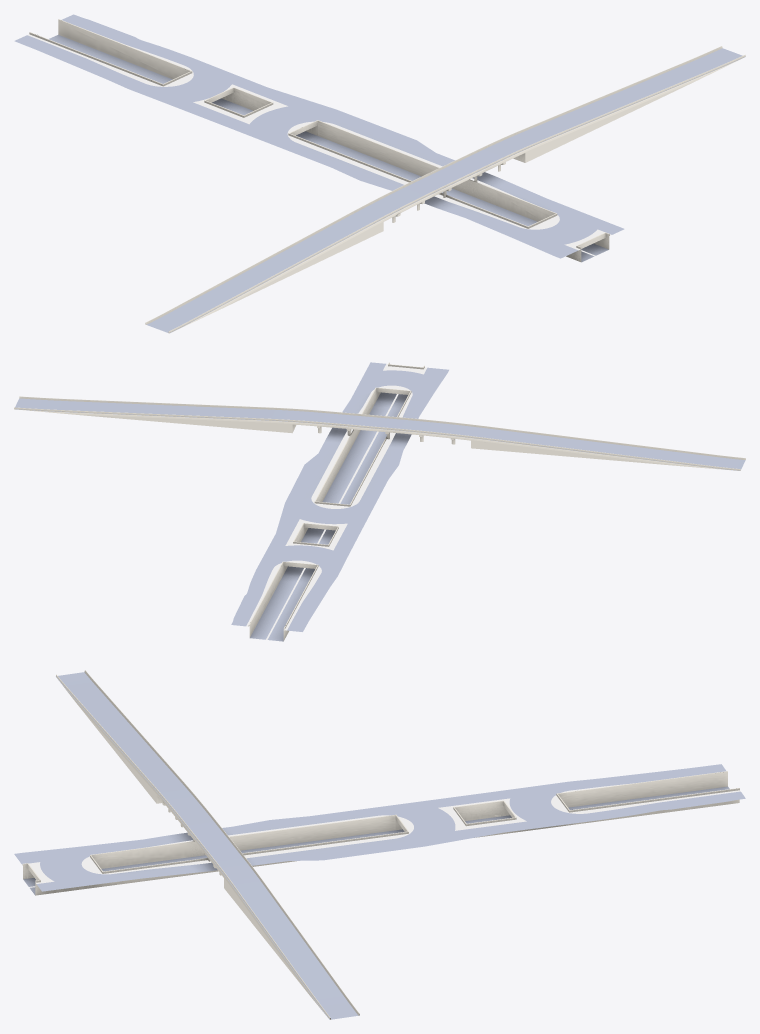
The model's file is Saina-Zhubanov2.glb.
3 renders of one model, top to bottom at view 1: azimuth 30°, elevation 25°; view 2: azimuth 150°, elevation 25°; view 3: azimuth 270°, elevation 25°, orthographic. The views are drawn at different scales.
Parts seen in each view (by area): view 1: group_3, group_11.001, group_2.003; view 2: group_3, group_11.001, group_2.003; view 3: group_3, group_11.001, group_2.003.
Part boxes in pixels (box(x1,y1,x2,y2)): group_3: box(14, 14, 745, 333); group_11.001: box(29, 19, 745, 333); group_2.003: box(27, 31, 611, 256); group_3: box(15, 362, 745, 641); group_11.001: box(14, 362, 745, 640); group_2.003: box(246, 364, 426, 639); group_3: box(14, 672, 745, 1019); group_11.001: box(22, 670, 739, 1019); group_2.003: box(22, 783, 740, 887).
Bounding box in the file's own units: 396 × 15 × 352.
Materials: 3 (2 with a texture image).
